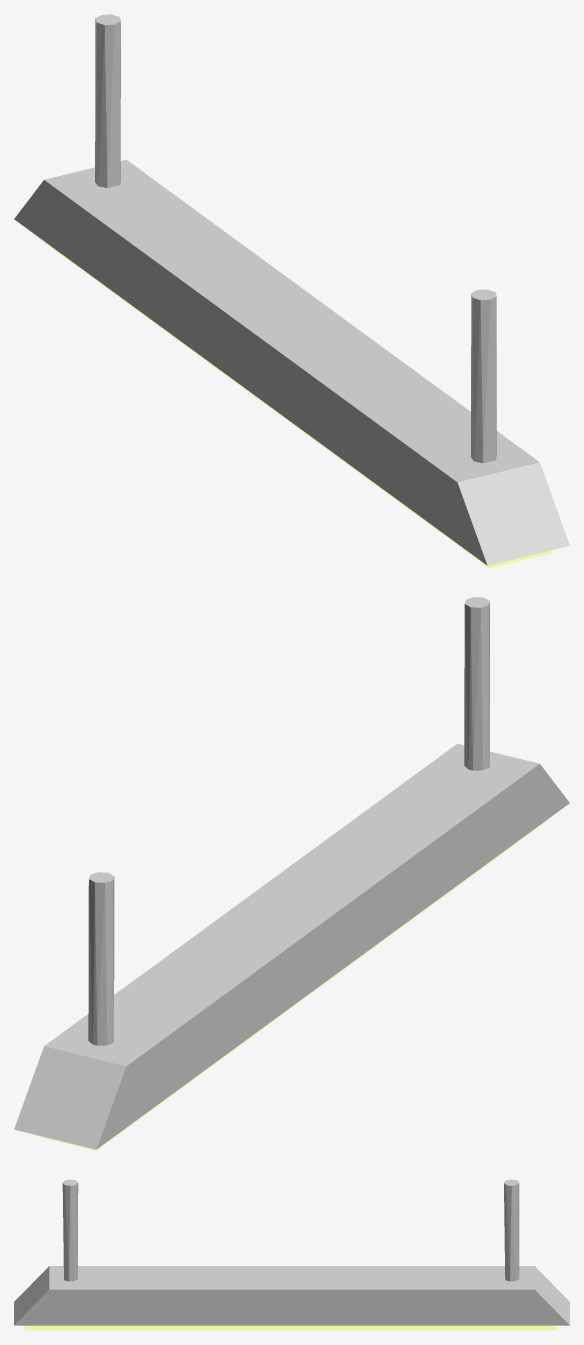
Rendered from Luces.gltf.
3 views of the same model, one above another, from view 1: azimuth 30°, elevation 25°; view 2: azimuth 150°, elevation 25°; view 3: azimuth 270°, elevation 25° (orthographic). The views are drawn at different scales.
Parts seen in each view (by area): view 1: Cube, Cube.001; view 2: Cube, Cube.001; view 3: Cube, Cube.001.
Boxes of the visible parts, <box> form: Cube: <box>14,14,569,565</box>; Cube.001: <box>36,236,552,568</box>; Cube: <box>14,597,569,1149</box>; Cube.001: <box>33,818,549,1150</box>; Cube: <box>14,1179,569,1325</box>; Cube.001: <box>24,1325,556,1330</box>.
Bounding box in the file's own units: 0.5616 × 1.54 × 5.59.
